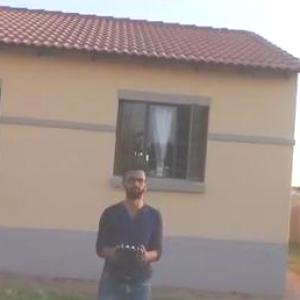follow: (94, 154, 173, 298)
